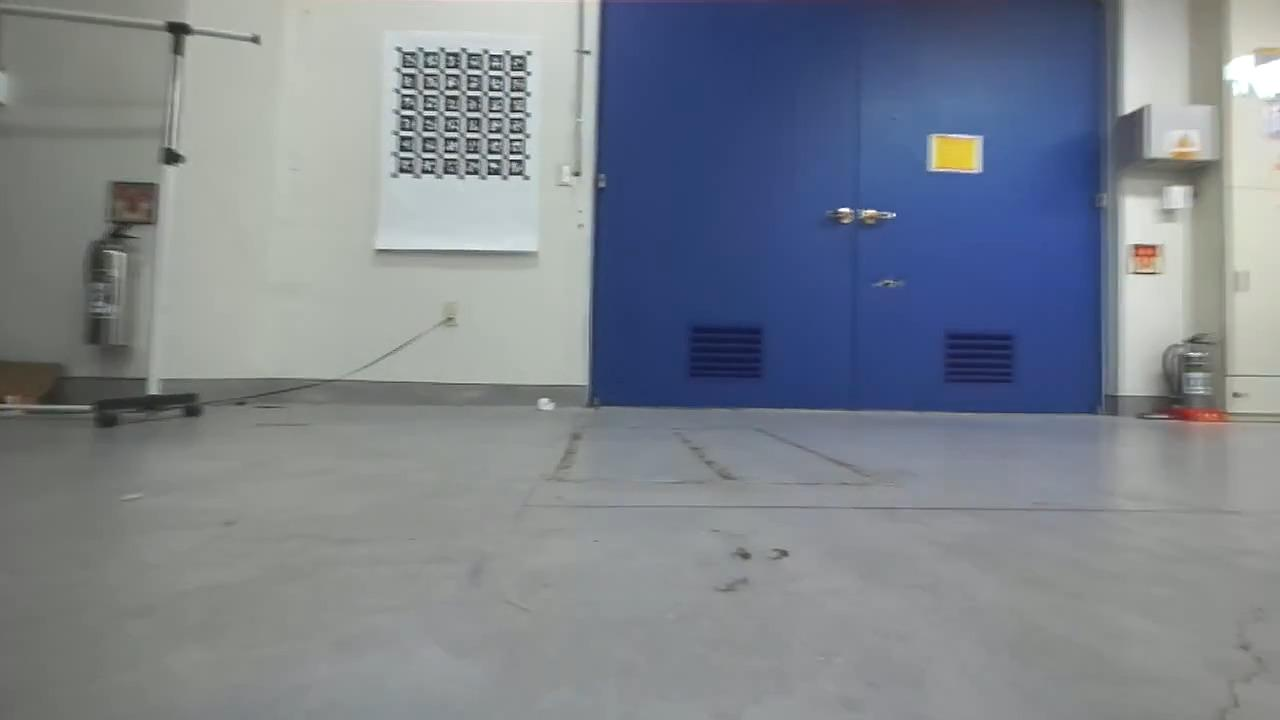crazyflie: (854, 271, 920, 296)
